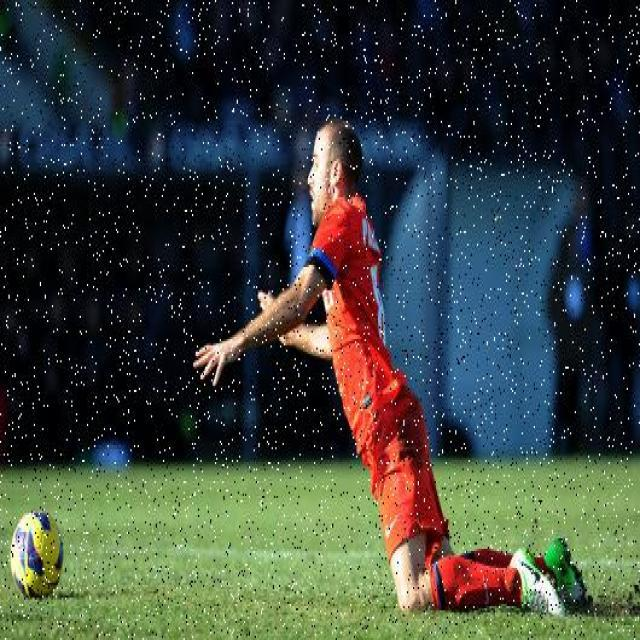fall: (211, 121, 574, 608)
